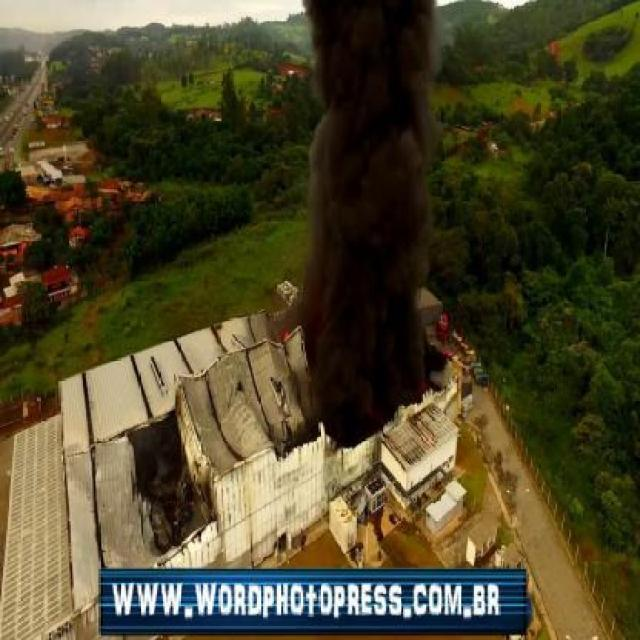Fire: (440, 313, 448, 330), (283, 328, 289, 339)
